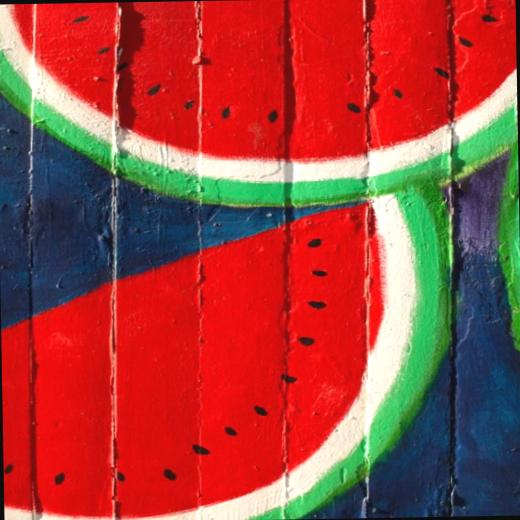Cherry: (0, 191, 458, 520), (0, 0, 518, 207)
